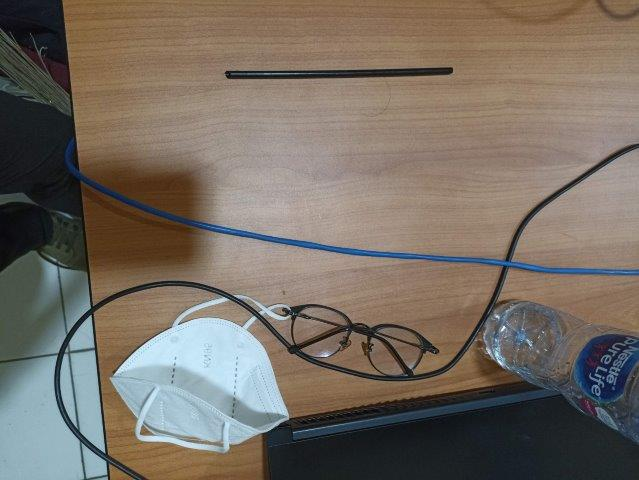sedotan: (226, 68, 453, 79)
